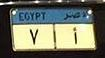7: (28, 27, 40, 45)
alif: (72, 26, 78, 45)
